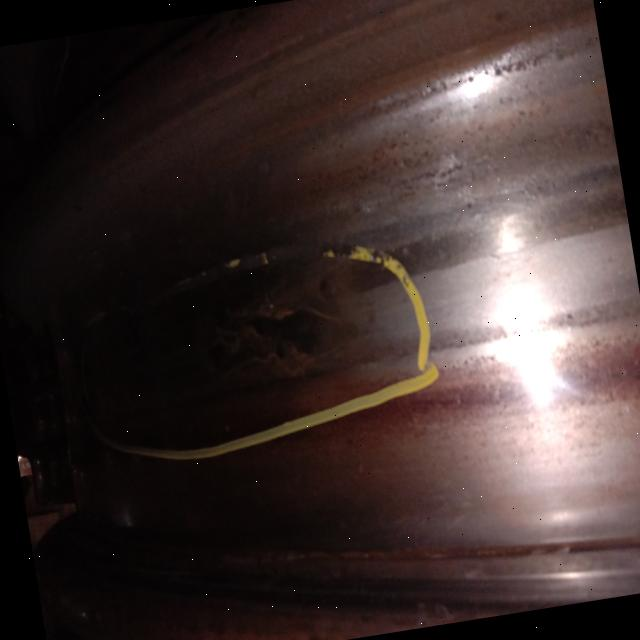flat: (208, 277, 355, 398)
